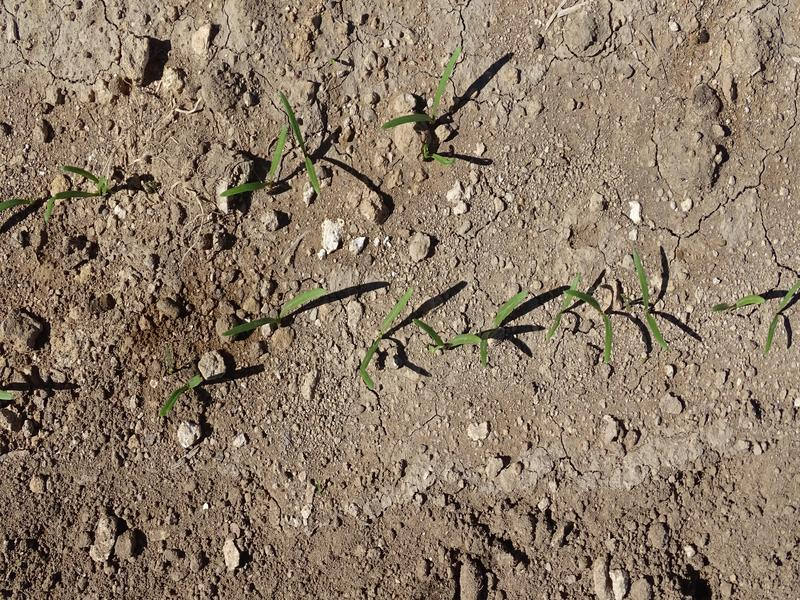Espinaca: (220, 88, 326, 202), (382, 44, 464, 131), (217, 288, 325, 341), (566, 287, 621, 367), (629, 253, 667, 349), (412, 319, 488, 363), (50, 165, 119, 201), (488, 288, 535, 335), (161, 370, 202, 418)
